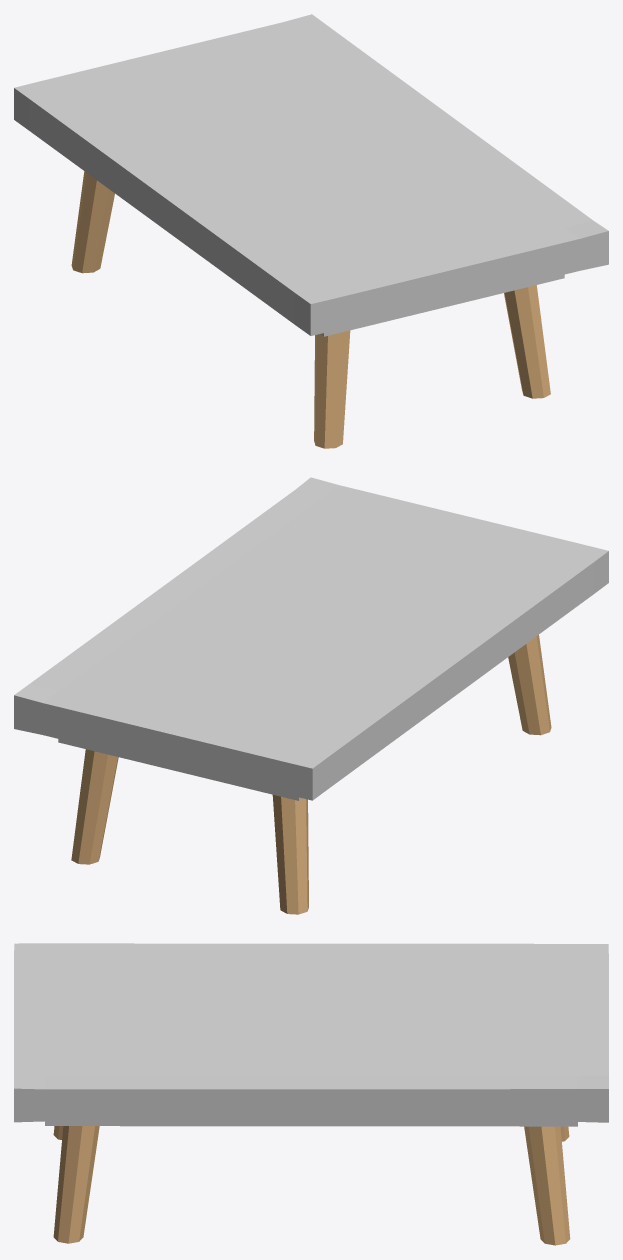
The model's file is FIXED_Coffe_Table.fbx.
The picture shows the model from 3 angles, top to bottom: view 1: azimuth 30°, elevation 25°; view 2: azimuth 150°, elevation 25°; view 3: azimuth 270°, elevation 25°; orthographic projection.
Parts seen in each view (by area): view 1: Coffe_table_1; view 2: Coffe_table_1; view 3: Coffe_table_1.
Part boxes in pixels (x1,y1,x2,y2): Coffe_table_1: (14,14,608,448); Coffe_table_1: (14,477,608,914); Coffe_table_1: (14,943,608,1245).
Size of the model in its own units: 2.99 by 1.65 by 5.16.
